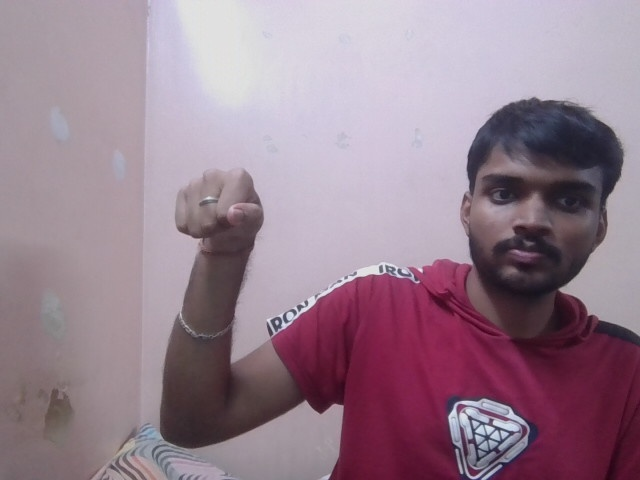Yes: (160, 170, 282, 242)
